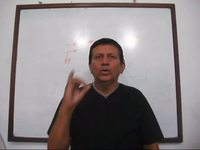oi: (63, 68, 94, 104)
